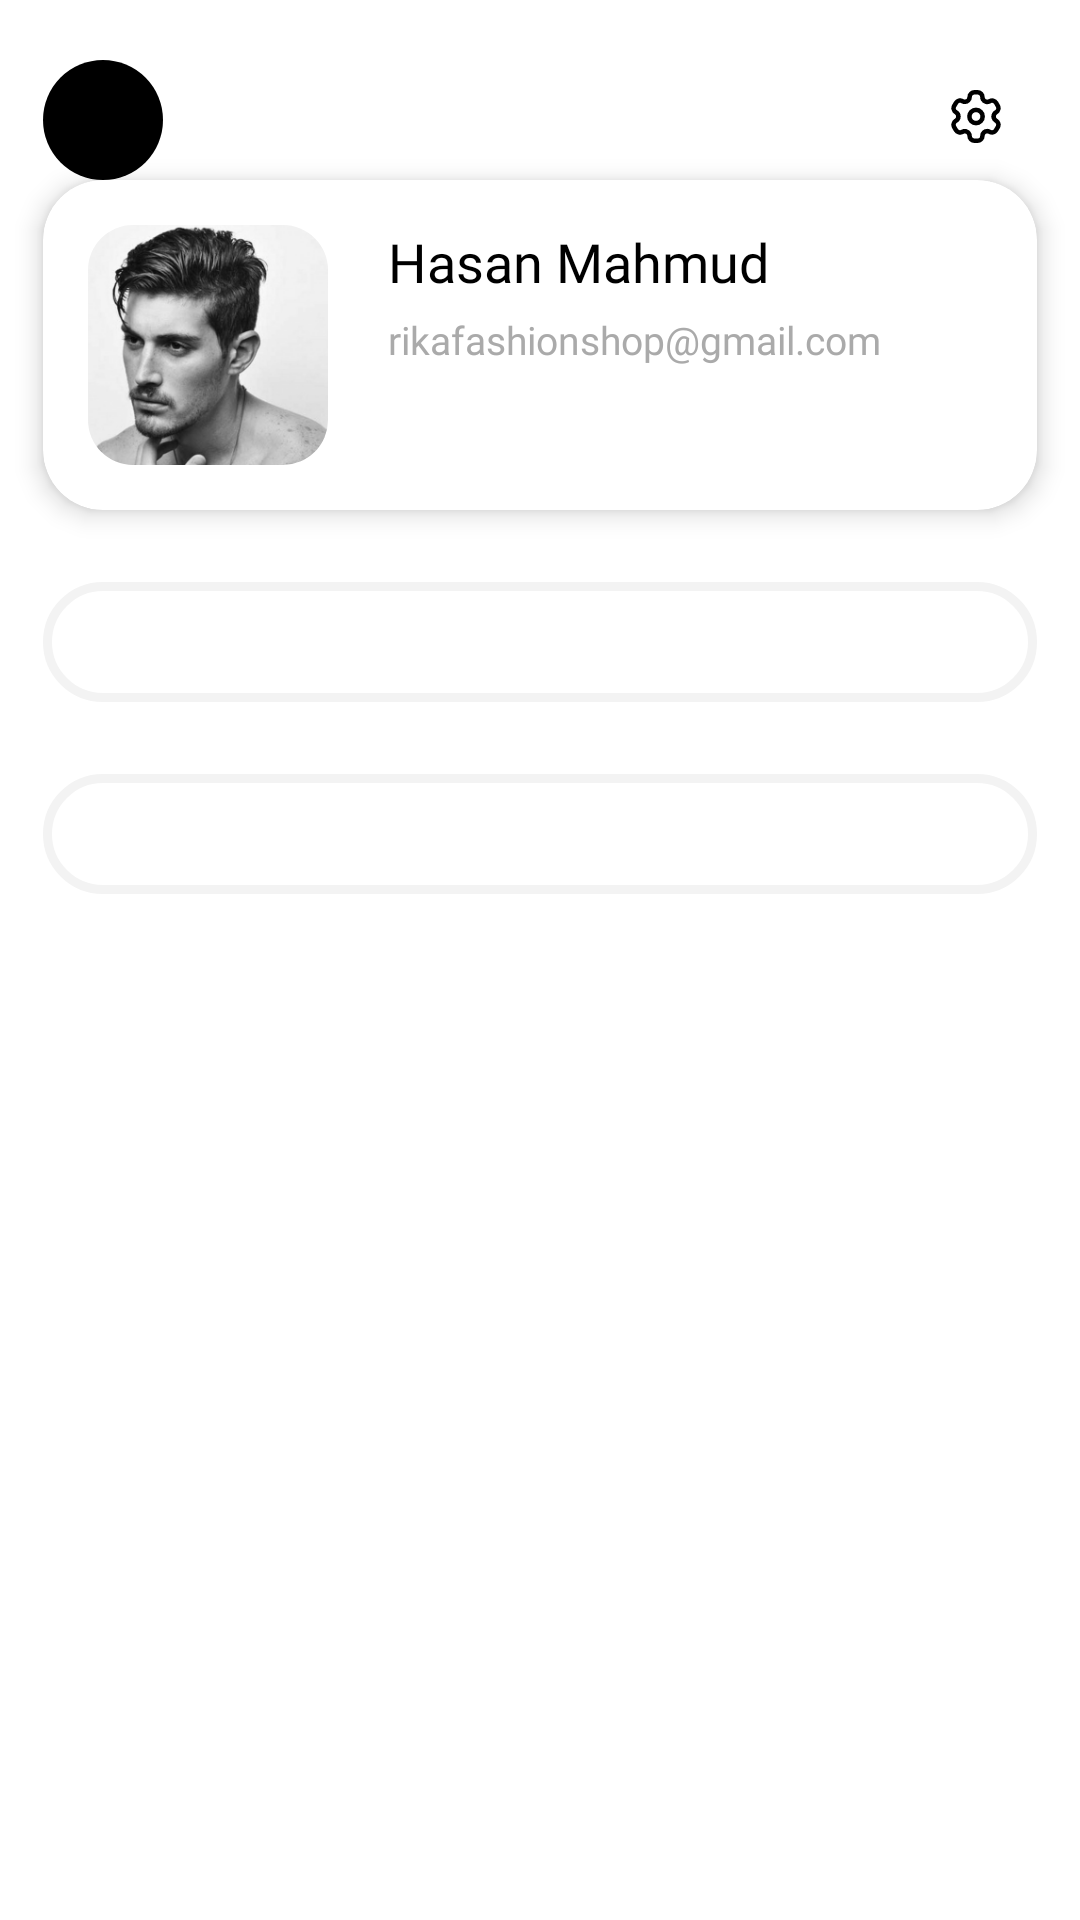

Icon click points for this 1080 x 1920 phone screenshot, format (x,y):
Settings Icon: (976,116)
User Image: (212,346)
